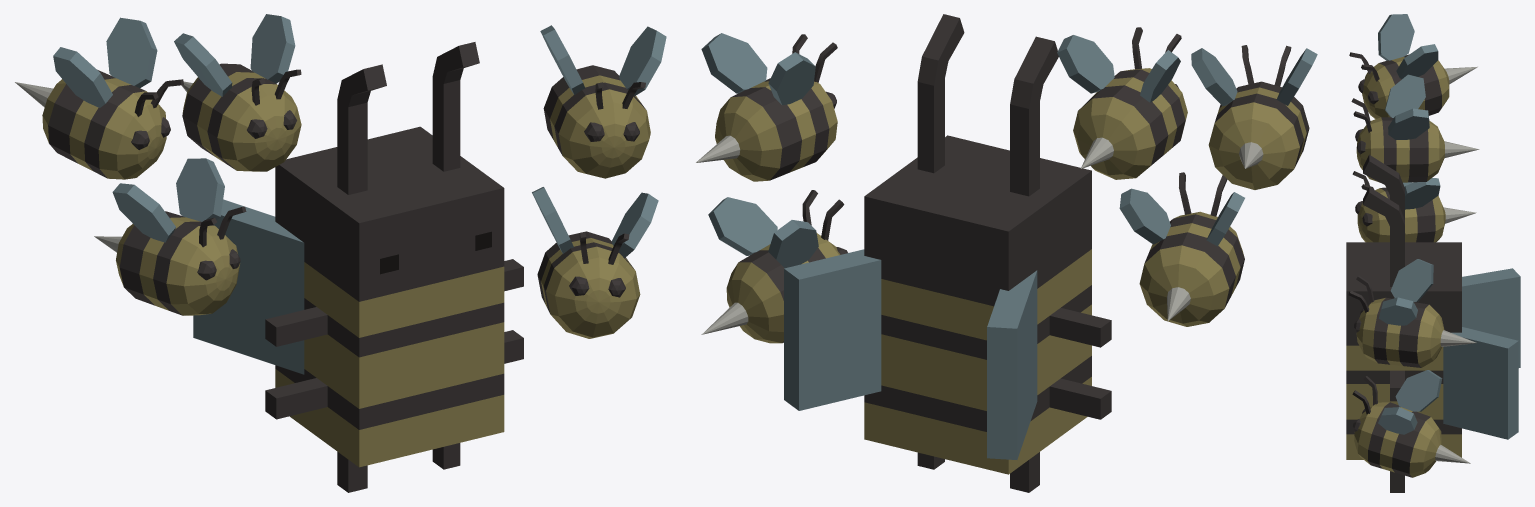
Rendered from Bee_RandomCapt5.fbx.
3 renders of one model, left to right at view 1: azimuth 30°, elevation 25°; view 2: azimuth 150°, elevation 25°; view 3: azimuth 270°, elevation 25°, orthographic. The views are drawn at different scales.
Parts seen in each view (by area): view 1: RandomCapt_3; view 2: RandomCapt_3; view 3: RandomCapt_3.
Part boxes in pixels (x1,y1,x2,y2): RandomCapt_3: [15, 14, 666, 492]; RandomCapt_3: [696, 14, 1317, 492]; RandomCapt_3: [1346, 14, 1520, 492].
Size of the model in its own units: 7.42 by 5.89 by 2.66.
